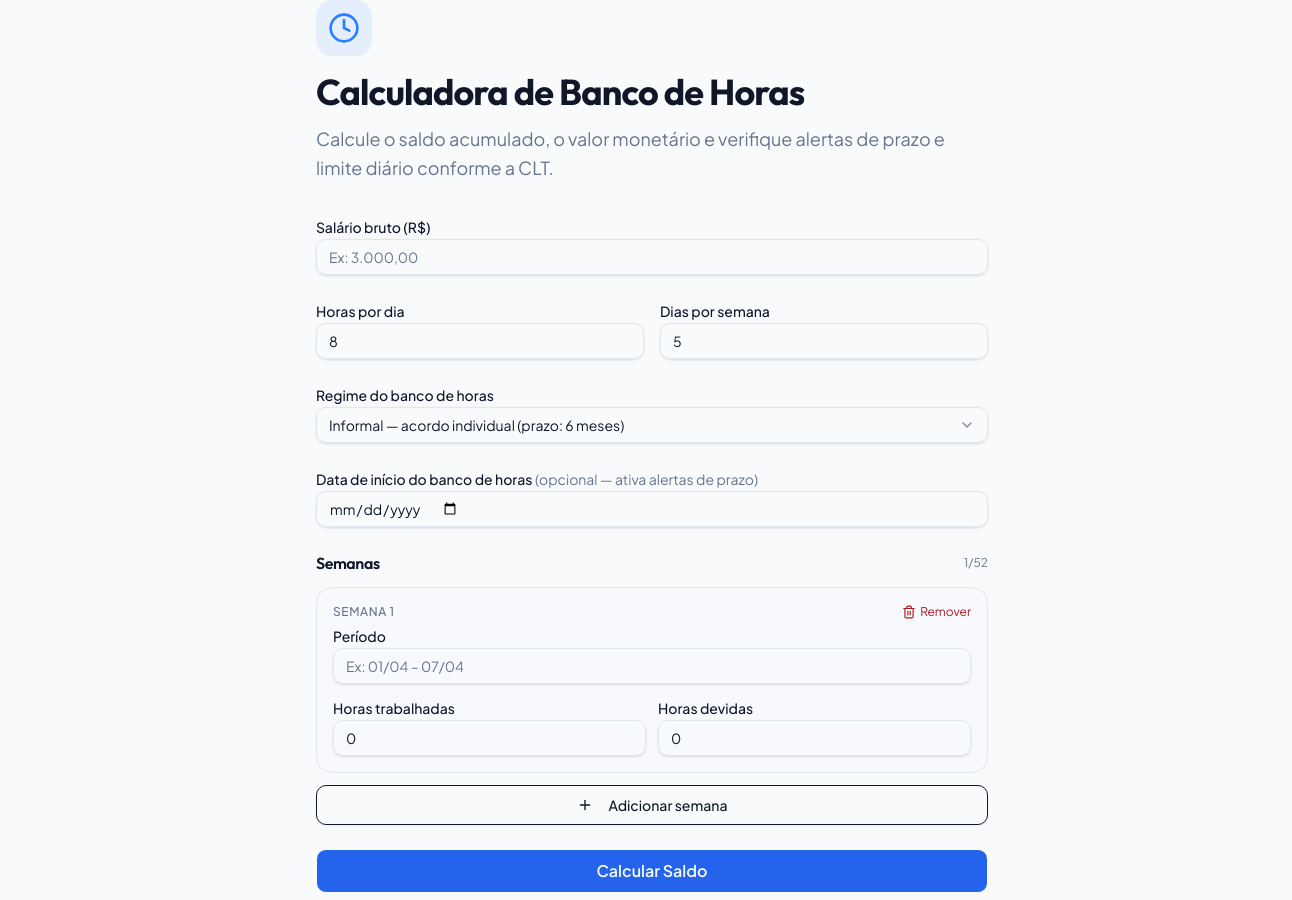
BancoDeHorasPage — resultado completo (Task 4.3) › tabela contém a linha da semana com período e saldo parcial
This screenshot has width=1292, height=900.
Type "3000" into the field labelled "Salário bruto (R$)" at (652, 256), box [316,238,988,274]
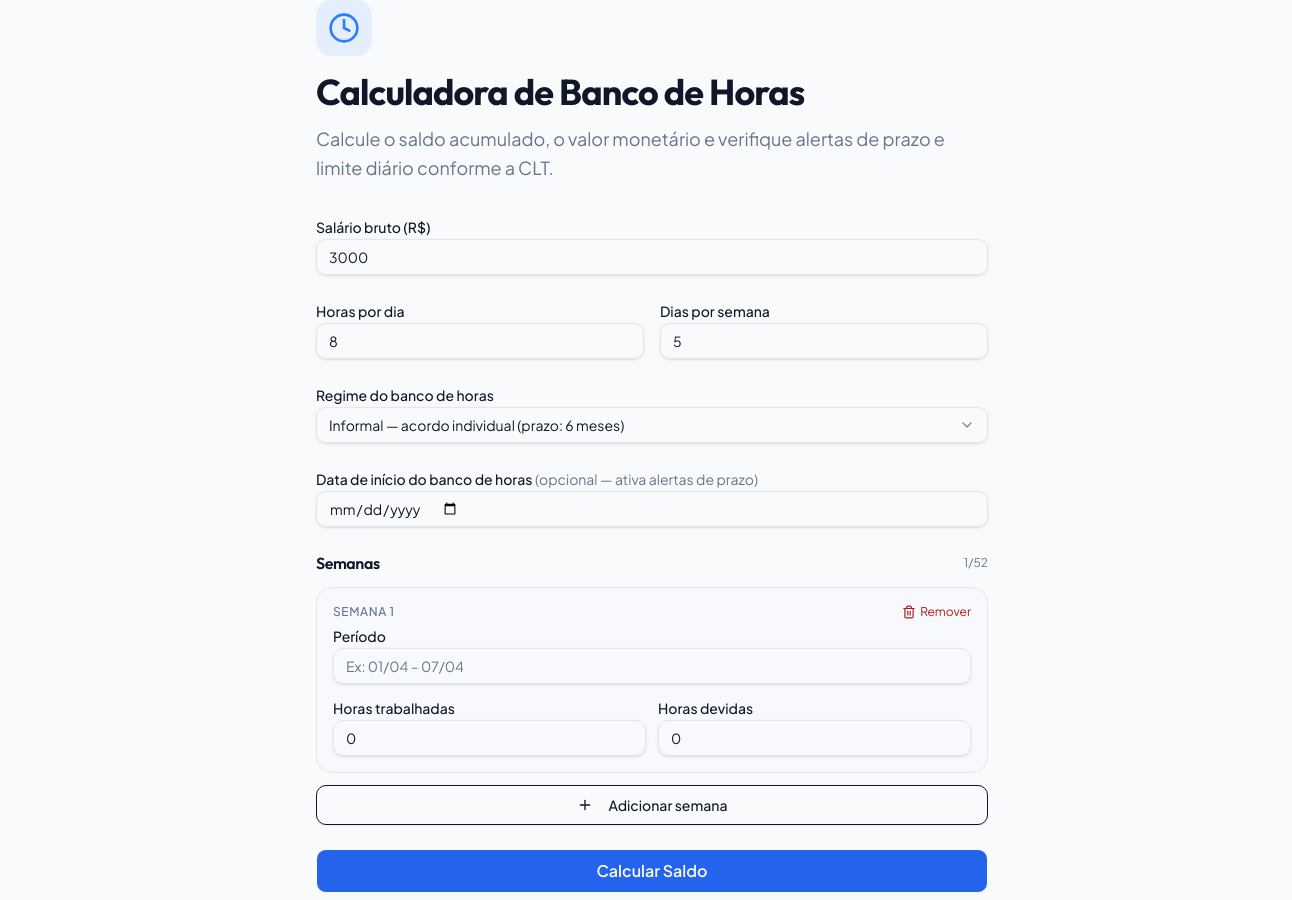
Type "01/04 – 07/04" into the field labelled "Período" at (652, 666), box [333,648,971,684]
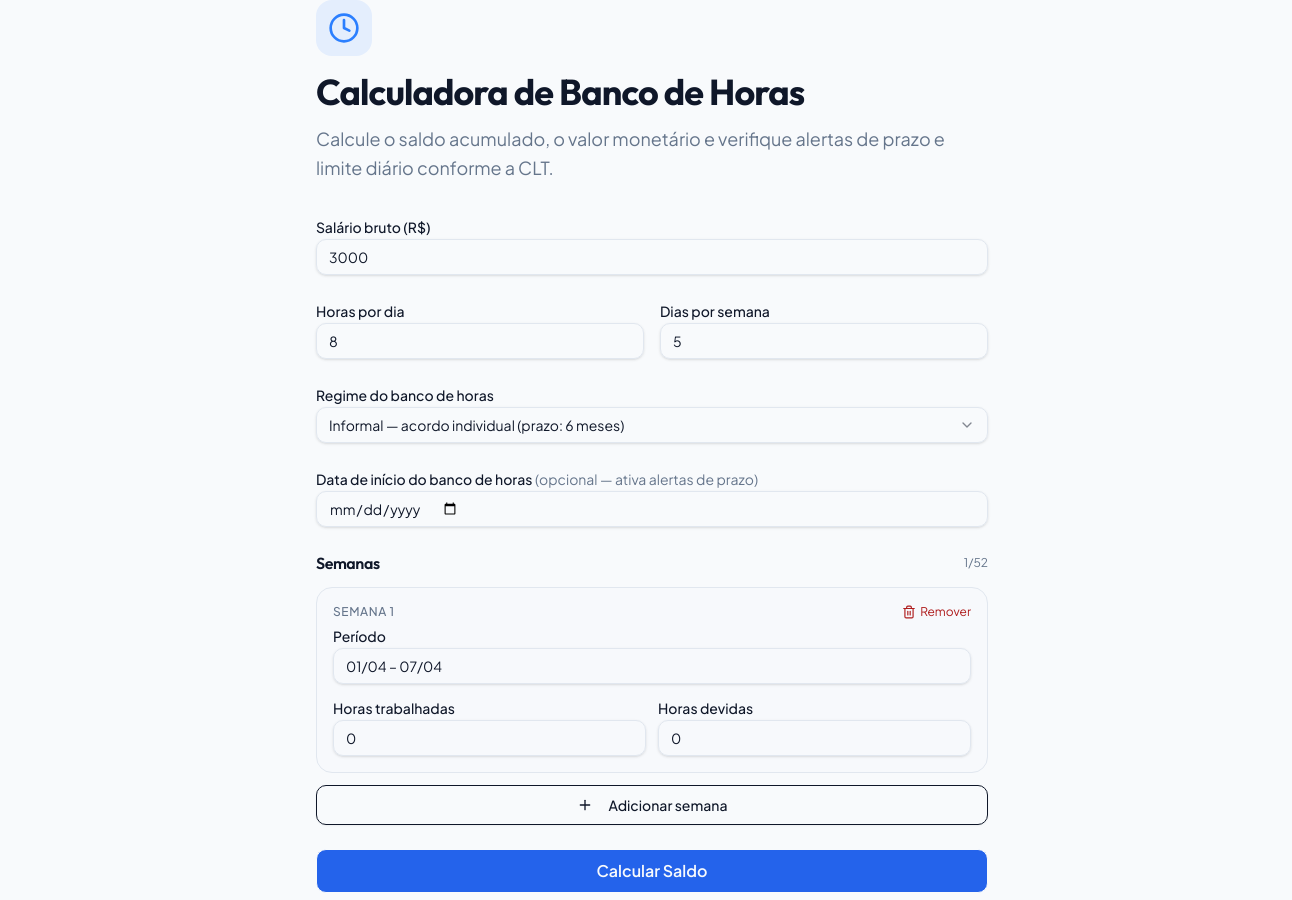
Replace the text in the number field labelled "Horas trabalhadas" with "45" at (490, 738), box [333,720,646,756]
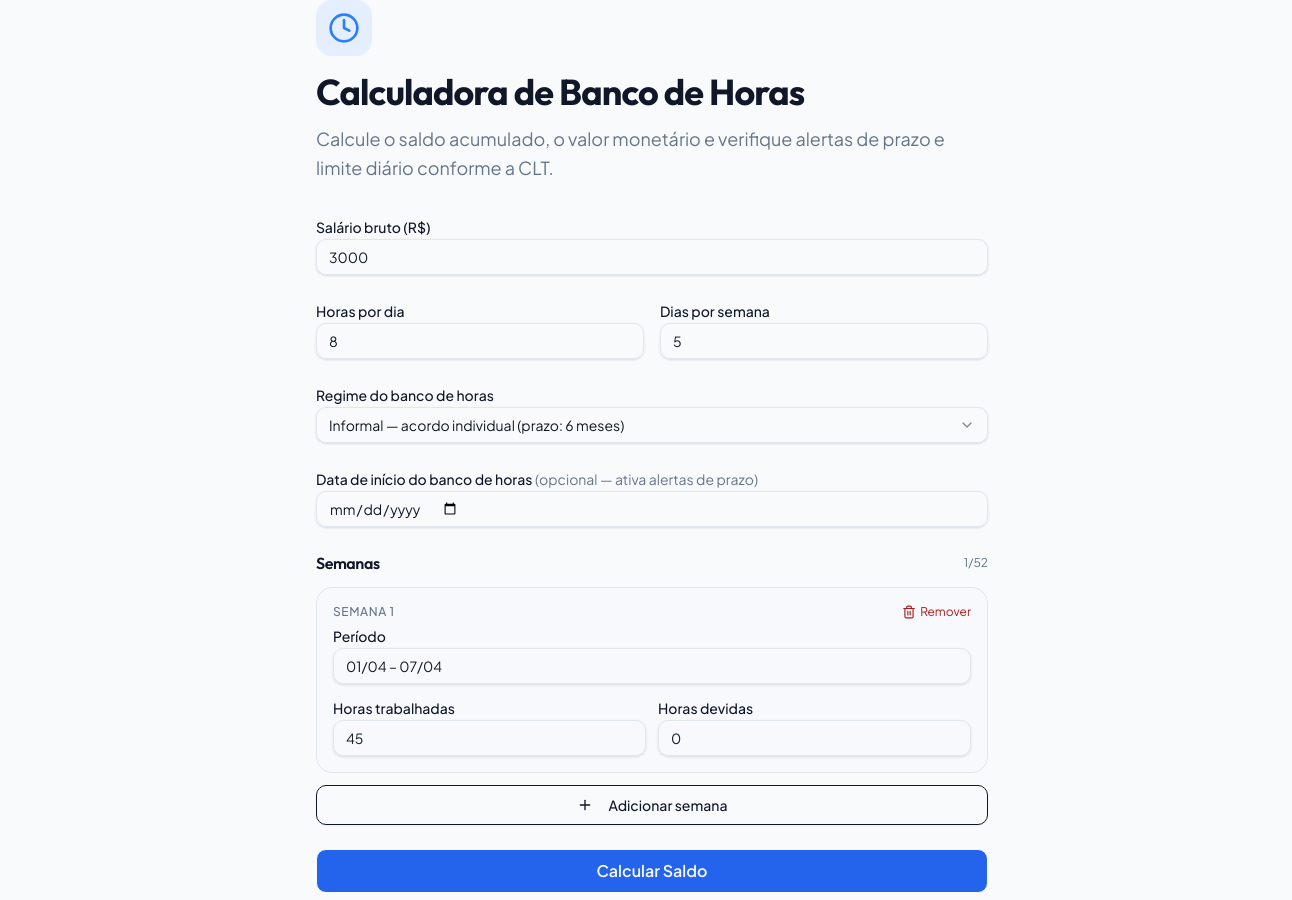
Replace the text in the number field labelled "Horas devidas" with "40" at (814, 738), box [658,720,971,756]
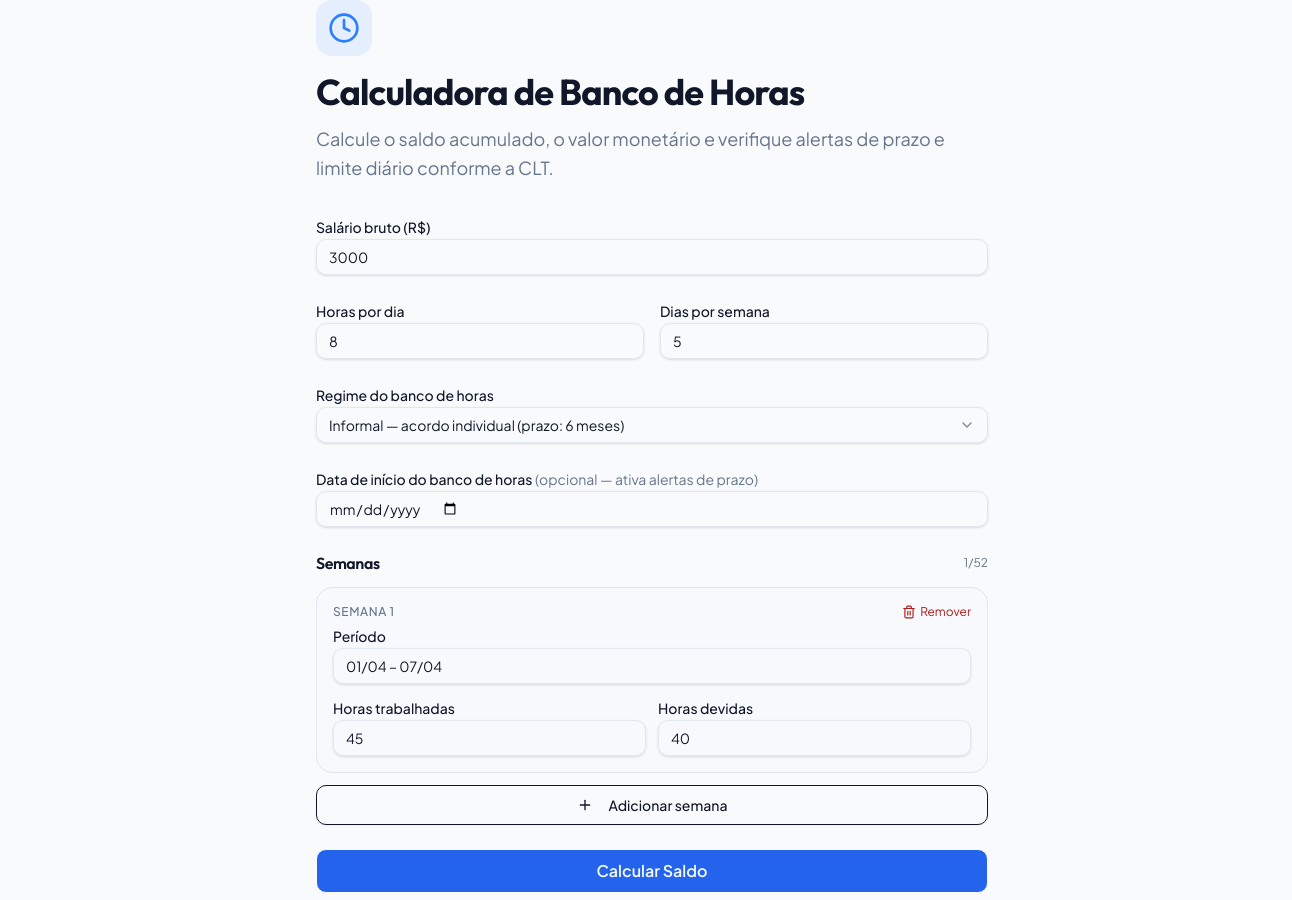
Click the button "Calcular Saldo" at (652, 870), box [316,848,988,892]
(page scrolled)
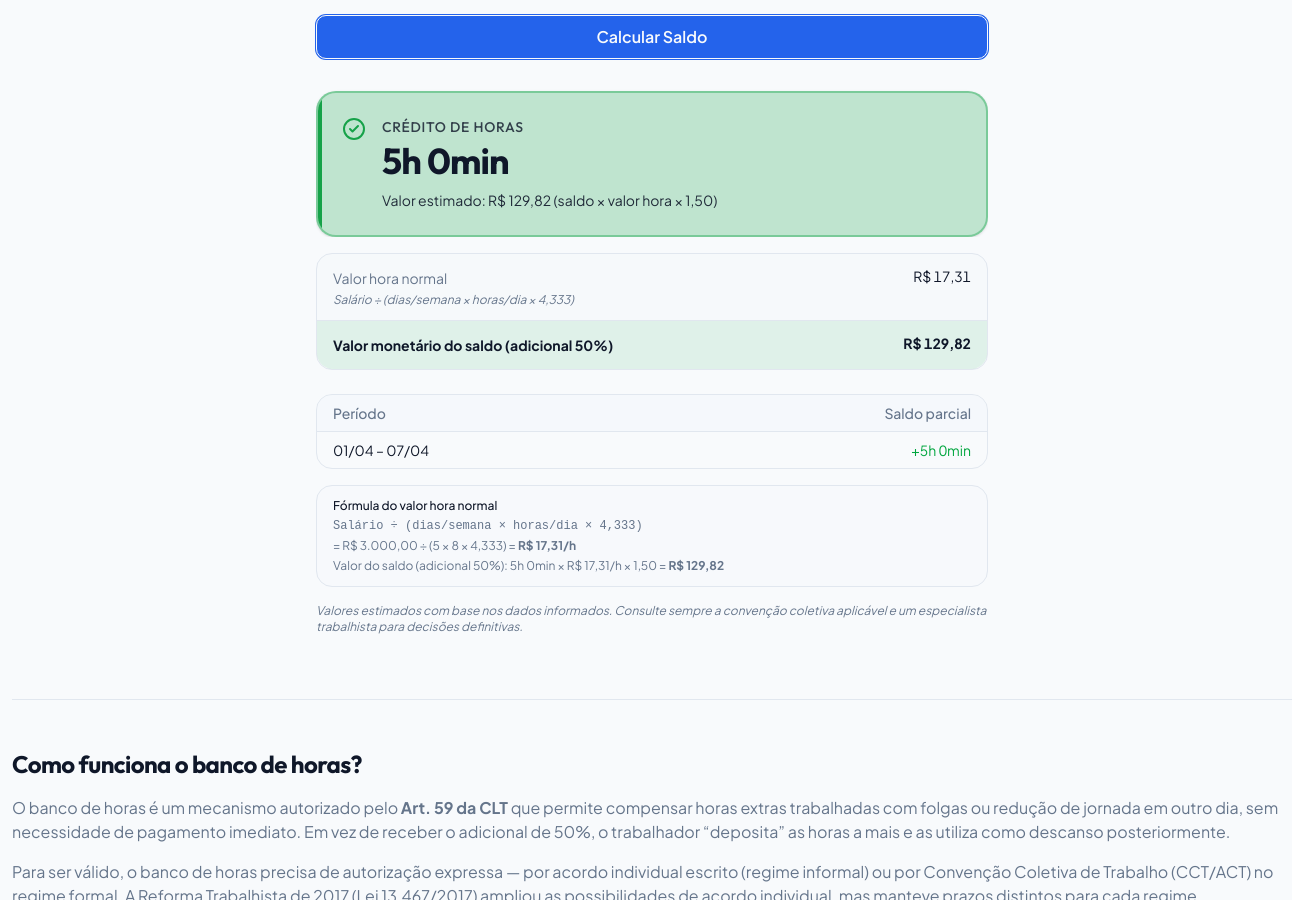
Check: the text "01/04 – 07/04" is shown, box [317,432,665,468]
